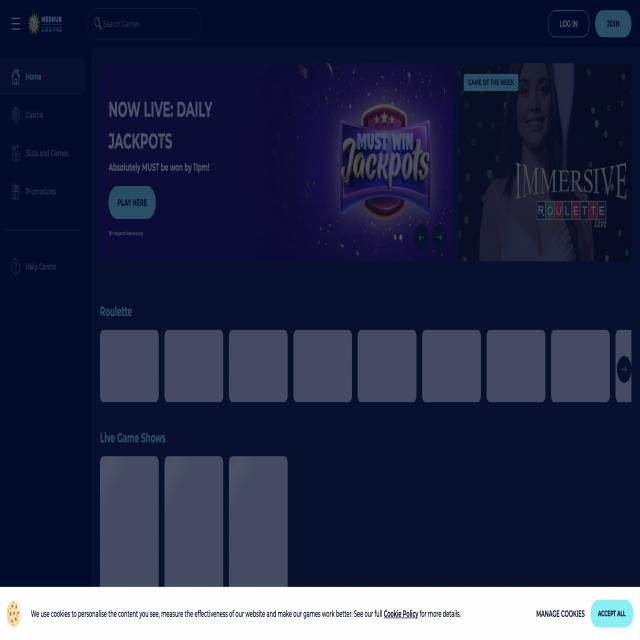Logo: (26, 7, 69, 48)
Navigation: (0, 58, 91, 294)
